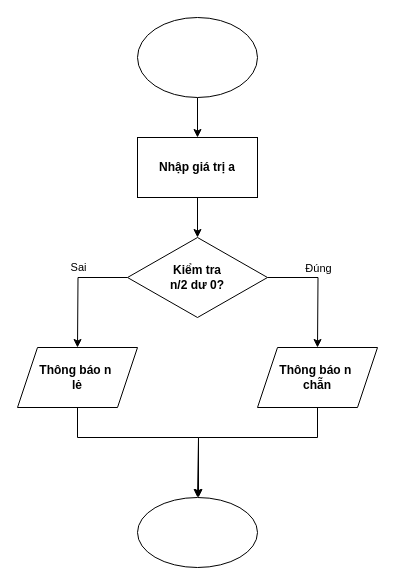
Some shapes in this 395 by 585 pixel diagram are drawn without their labels. Here are the shapes that lost their labels. From the top down, the box of each, then its label:
(136, 16, 258, 98): Bắt đầu
(136, 496, 258, 568): Kết thúc
